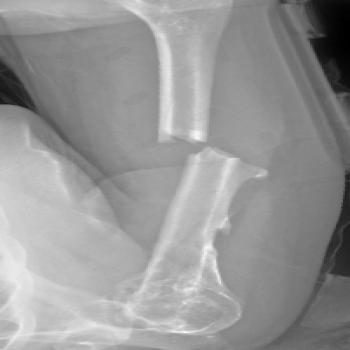Fracture: (149, 125, 277, 186)
